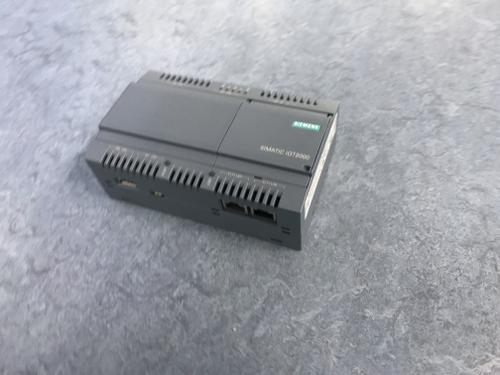device: (85, 70, 340, 251)
